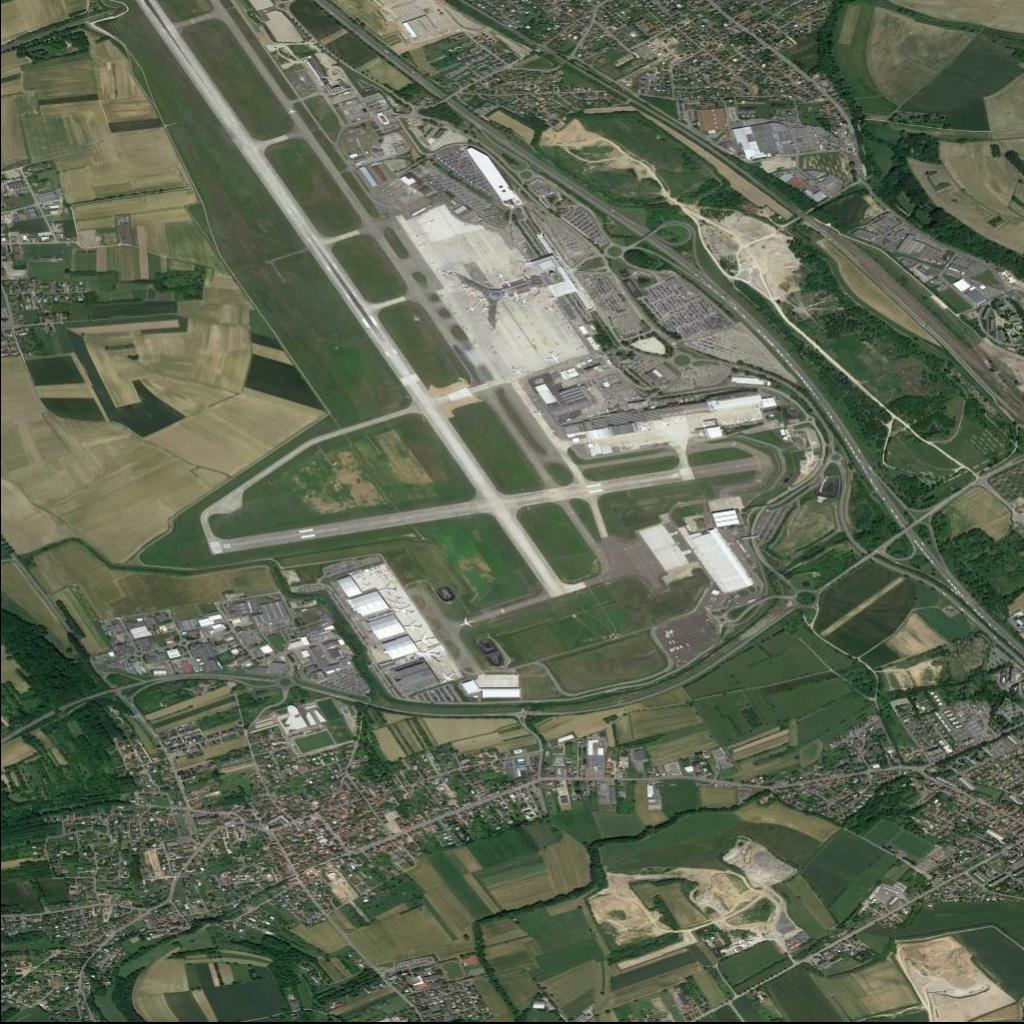plane: (438, 669, 458, 684), (545, 350, 563, 364), (414, 633, 435, 645), (457, 617, 476, 628), (379, 584, 397, 595), (420, 648, 437, 659), (390, 597, 404, 608), (404, 622, 419, 631)
